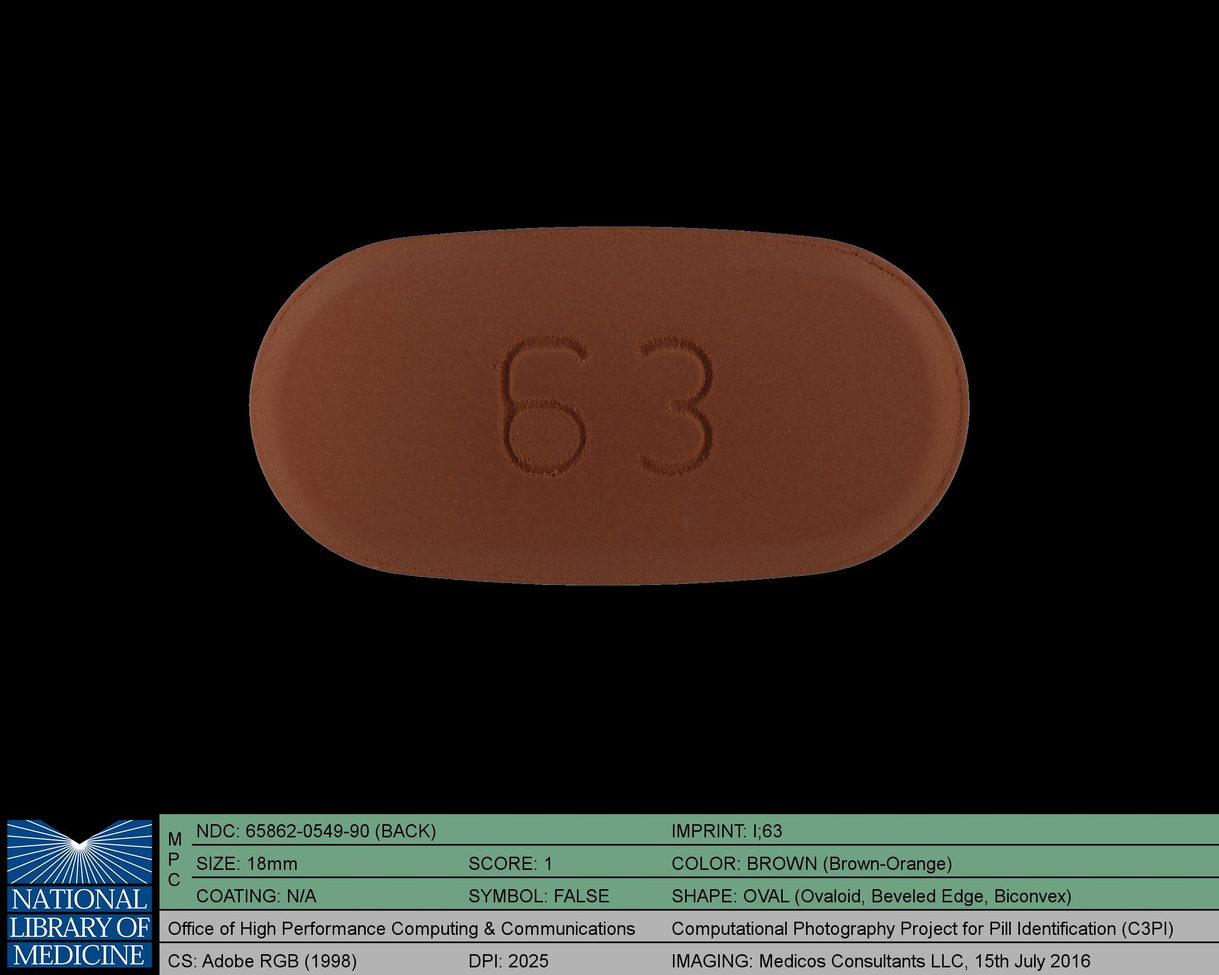Pill: (239, 217, 982, 598)
